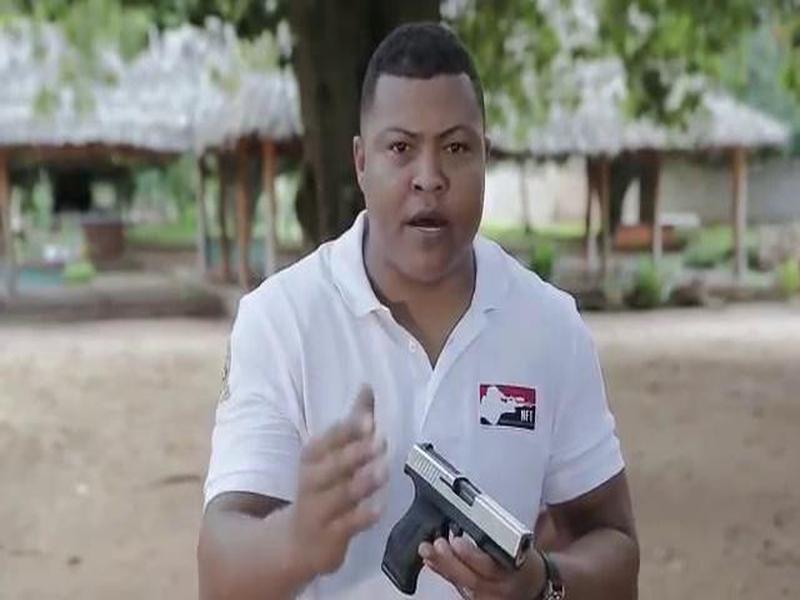Pistola: (370, 435, 541, 598)
